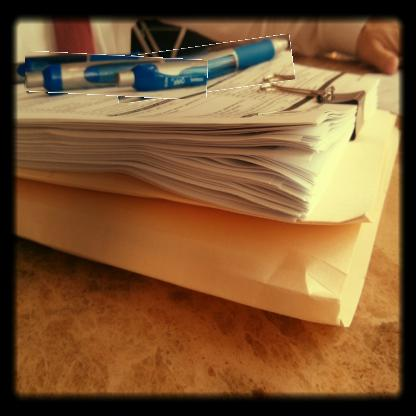Pen: (113, 40, 294, 98), (24, 54, 207, 98)
